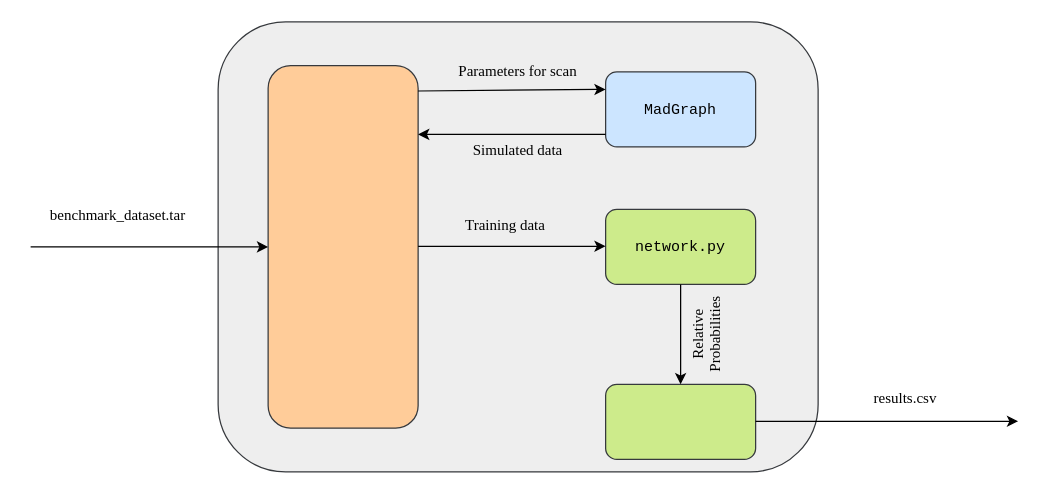
This 1050x494 diagram has some shape labels left out. Here are the shapes that lost their labels. From the top down, the box of each, then its label:
(267, 64, 418, 428): run.sh
(604, 383, 756, 459): mle.py
